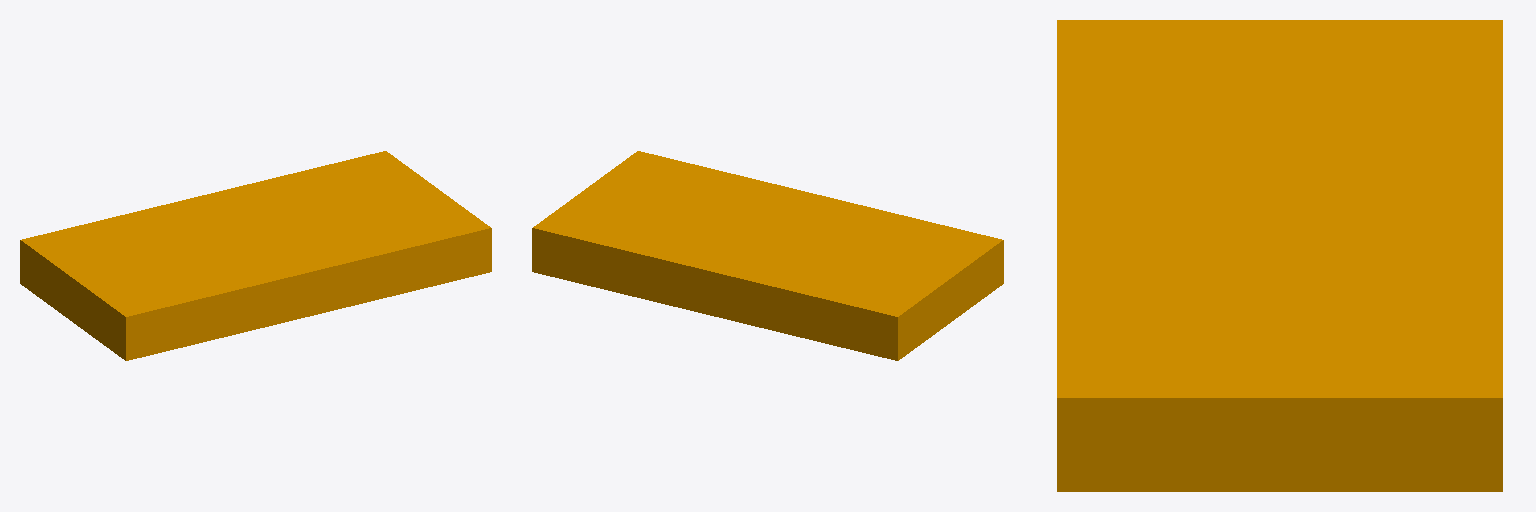
URDF robot description (surface):
<?xml version="1.0"?>
<robot name="surface">
  <link name="base_link">

    <collision>
      <geometry>
        <box size="8.66 4.33 1"/>
      </geometry>
    </collision>

    <inertial>
      <mass value="50"/>
    	<inertia ixx="108" ixy="0" ixz="0" iyy="421" iyz="0" izz="521"/>
  	</inertial>

    <visual>
      <geometry>
        <box size="8.66 4.33 1"/>
      </geometry>
    </visual>

  </link>
</robot>

--- Facts derived from the render (not from the file) ---
The picture shows the robot from 3 angles, left to right: view 1: azimuth 30°, elevation 25°; view 2: azimuth 150°, elevation 25°; view 3: azimuth 270°, elevation 25°; orthographic projection.
Model surface with 1 links and 0 joints (none), rooted at base_link, posed every joint at zero.
Links seen in each view (by area): view 1: base_link; view 2: base_link; view 3: base_link.
Link boxes in pixels (x1,y1,x2,y2): base_link: (20, 151, 491, 360); base_link: (532, 151, 1003, 360); base_link: (1057, 20, 1502, 491).
Bounding box of the posed robot: 8.66 × 4.33 × 1 m (x, y, z).
Geometry: primitives only (box / cylinder / sphere), no mesh files.